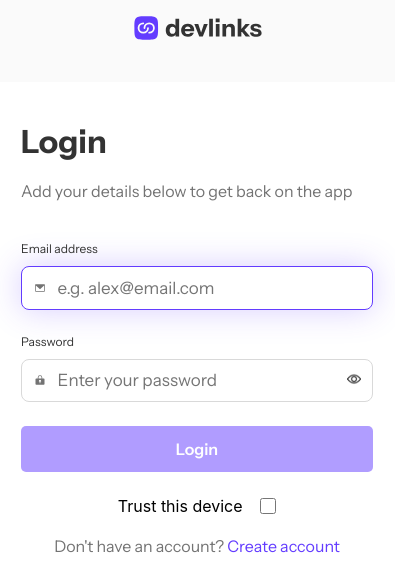
Test: <Login /> › displays error messages if email is not entered
In the password field with placeholder "Enter your password": (202, 380) [58,370,347,390], type "12345678"
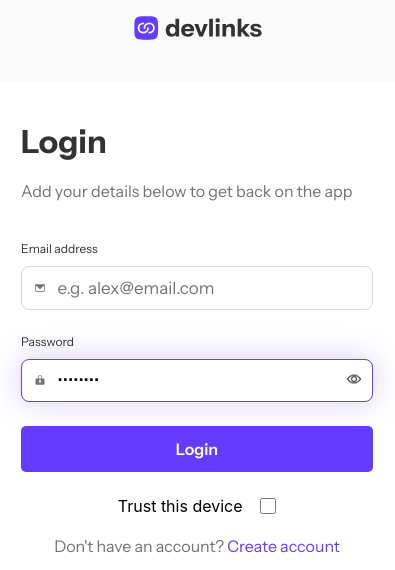
Click the button with test id "login-button": (197, 449) [21,426,373,472]
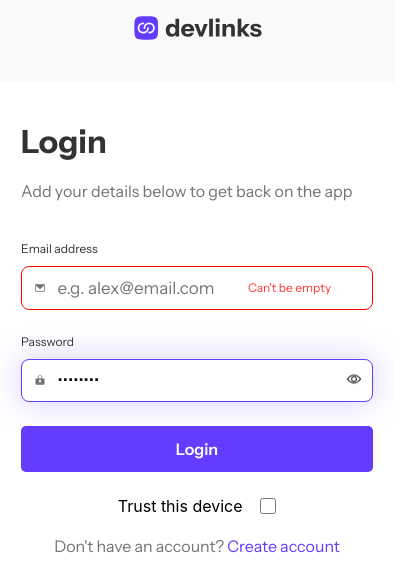
Now the text "Can't be empty" is shown, box [248,280,331,295]
